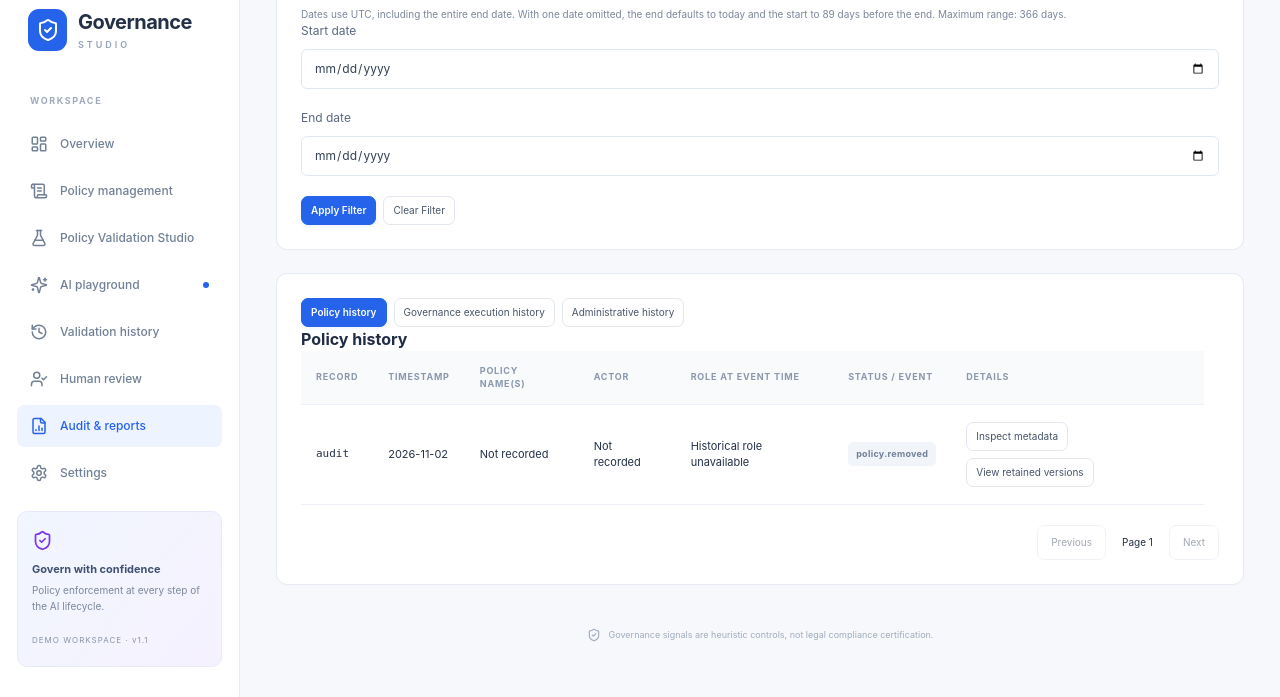
remove policies while retaining history › shows retained published versions from policy history without restore controls
This screenshot has width=1280, height=697.
(page scrolled)
Click the button "View retained versions" at {"x": 1030, "y": 472}, box [966,458,1094,487]
(page scrolled)
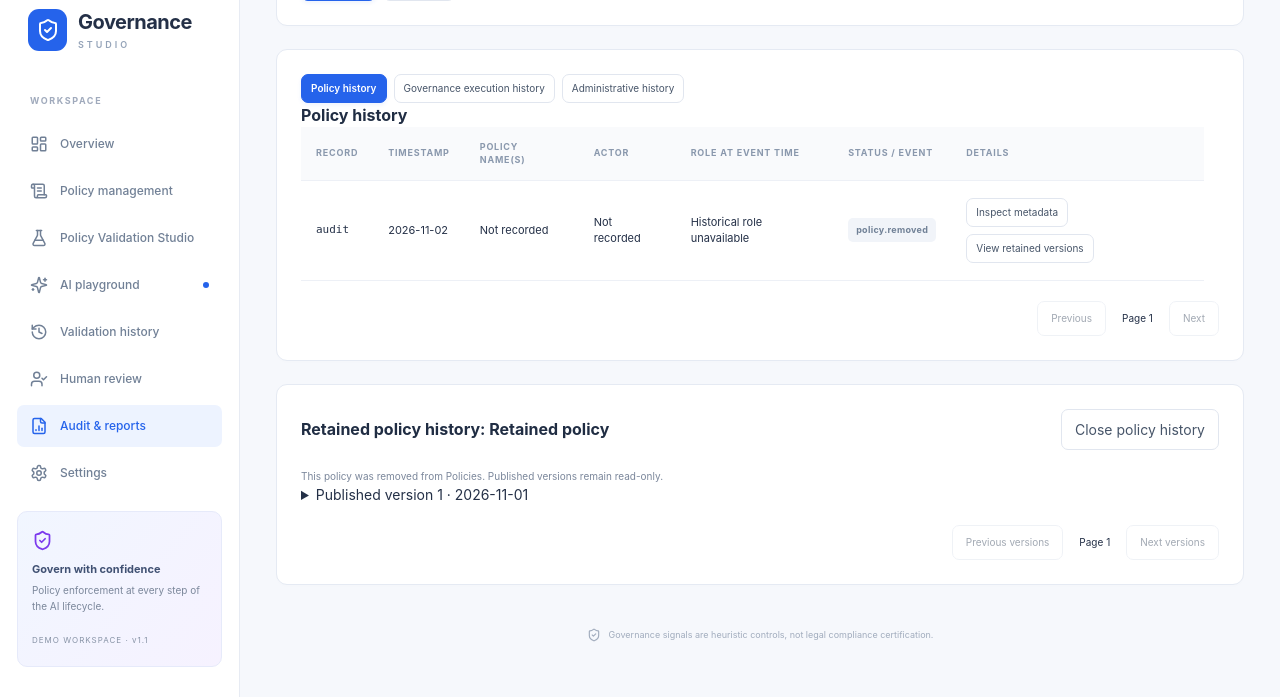
Now the heading "Retained policy history: Retained policy" is shown, box [301,417,609,441]
Now the heading "Published version 1 · 2026-11-01" is shown, box [316,486,528,503]
